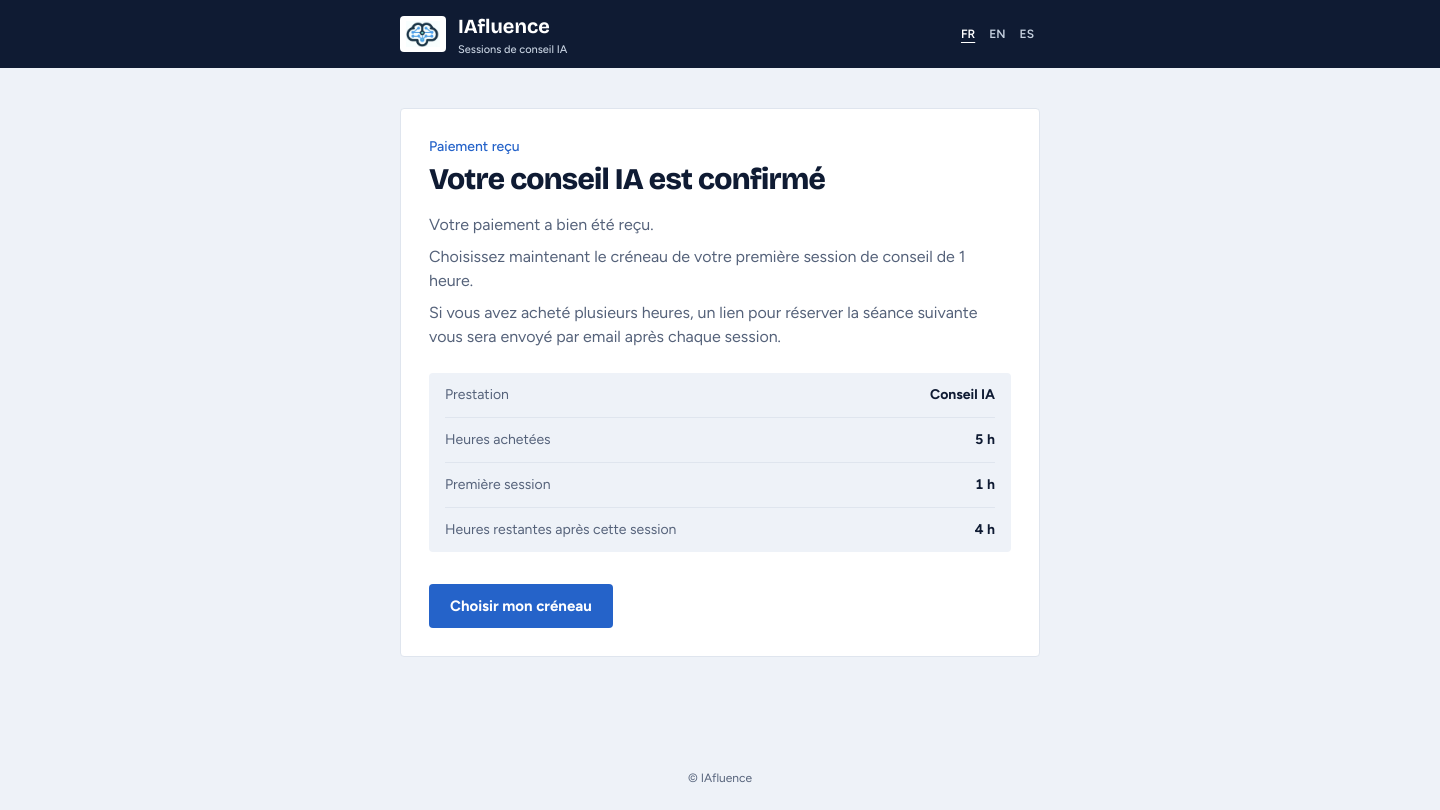
routing › switching language keeps the page and the booking step
Expected: the heading "Votre conseil IA est confirmé" is shown, [429,161,825,197]
Expected: the navigation bar named "Langue" reads "FR EN ES", [961,27,1034,41]
Click the link with aria-label "Español".
click(1027, 34)  # box [1020,27,1034,41]
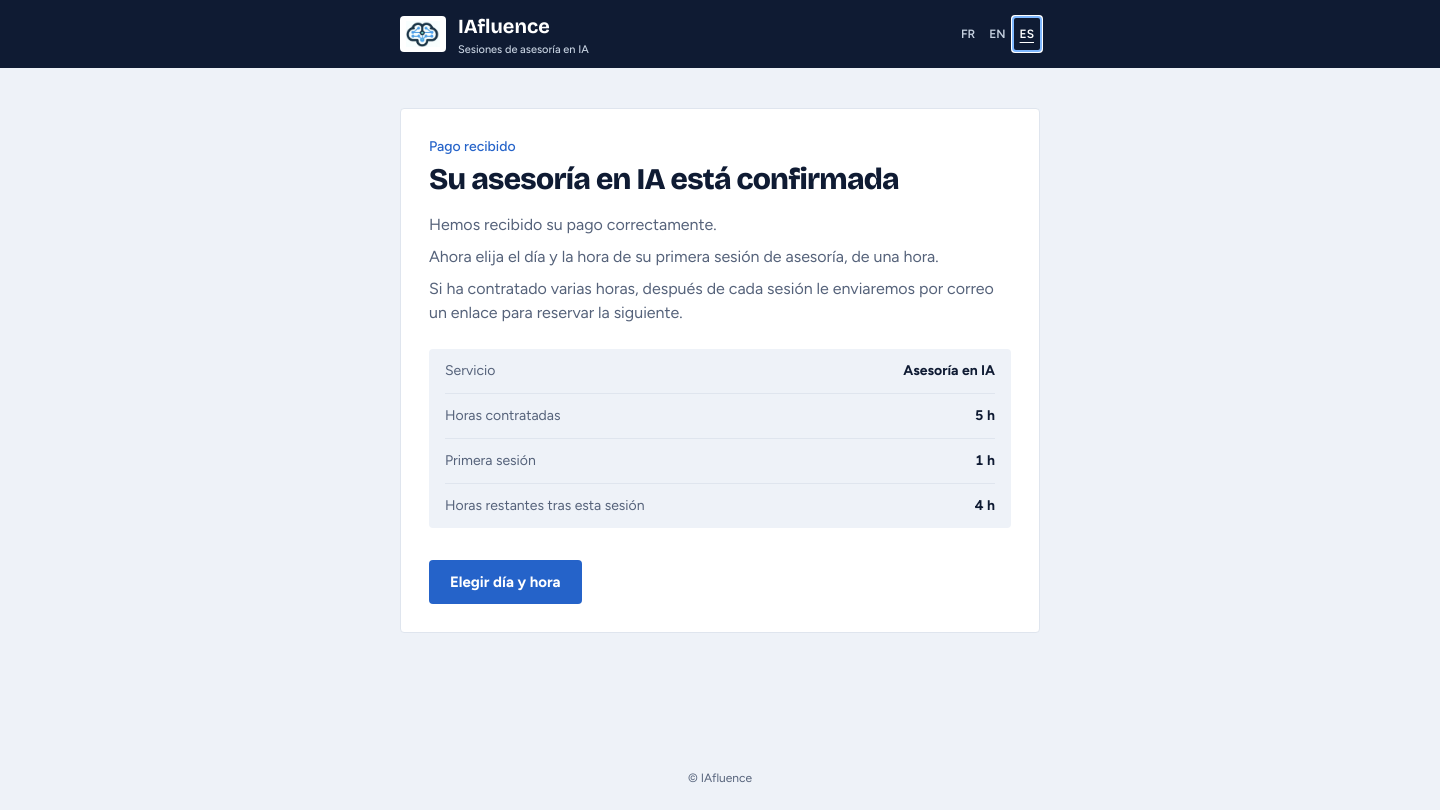
Expected: the heading "Su asesoría en IA está confirmada" is shown, [429,161,899,197]
Expected: the navigation bar named "Idioma" is shown, [961,27,1034,41]
